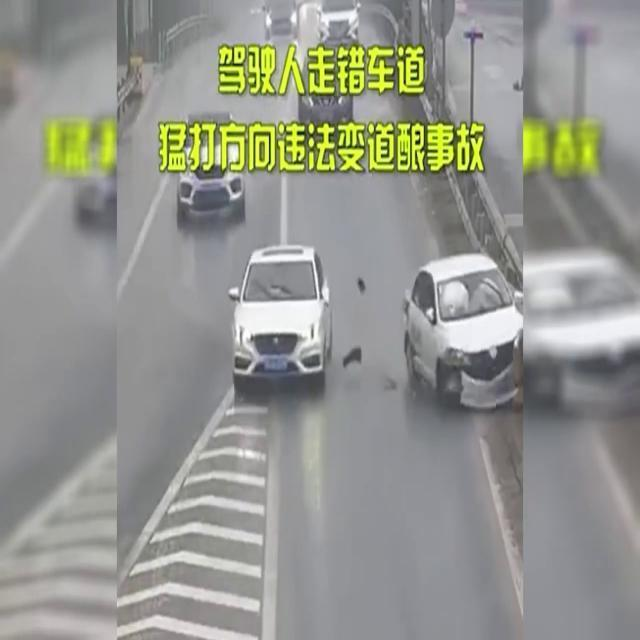accident: (398, 256, 520, 408)
